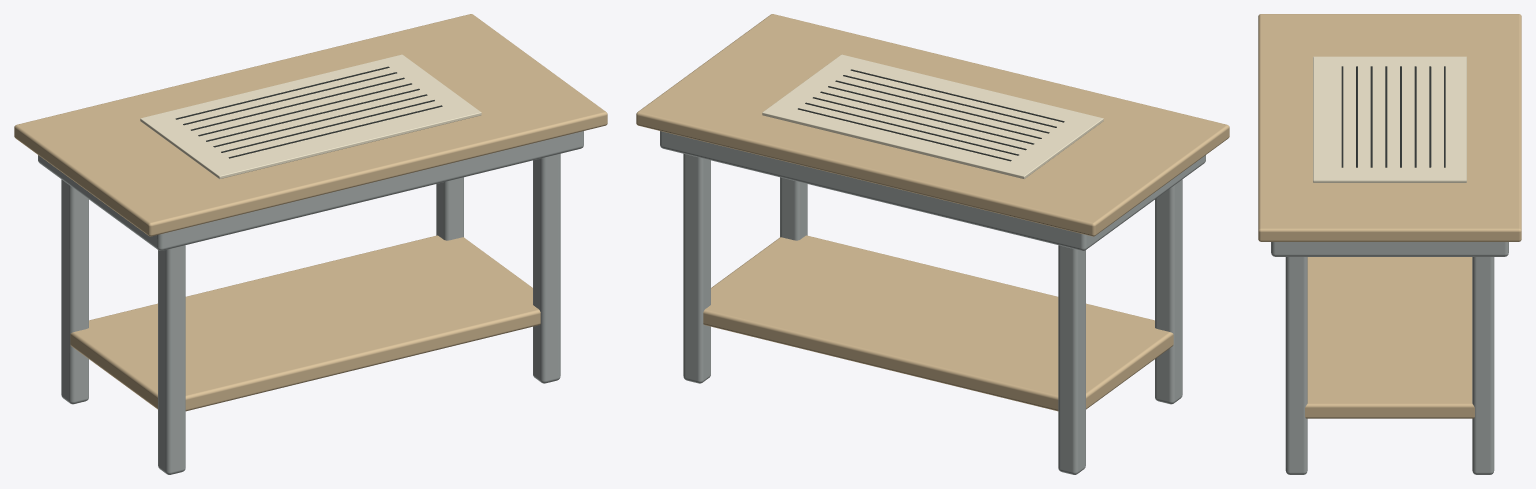
Rendered from cricket-ground-and-pavilion-scorer-desk-951ee20c__31350.glb.
The picture shows the model from 3 angles, left to right: view 1: azimuth 30°, elevation 25°; view 2: azimuth 150°, elevation 25°; view 3: azimuth 270°, elevation 25°; orthographic projection. The views are drawn at different scales.
Visible parts, largest first — view 1: scorer-desk; view 2: scorer-desk; view 3: scorer-desk.
Part boxes in pixels (x1,y1,x2,y2): scorer-desk: [14, 14, 607, 474]; scorer-desk: [636, 14, 1229, 474]; scorer-desk: [1258, 14, 1521, 474].
Bounding box in the file's own units: 1.4 × 0.804 × 0.7201.
